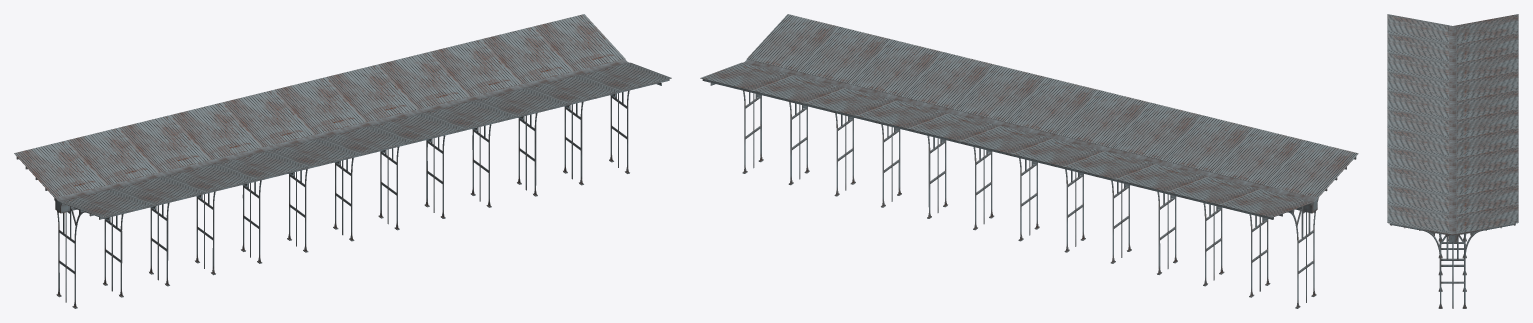
File: Carport_02.fbx
The picture shows the model from 3 angles, left to right: view 1: azimuth 30°, elevation 25°; view 2: azimuth 150°, elevation 25°; view 3: azimuth 270°, elevation 25°; orthographic projection. The views are drawn at different scales.
Visible parts, largest first — view 1: maitoaA; view 2: maitoaA; view 3: maitoaA.
Boxes of the visible parts, x1=… form: maitoaA: x1=14, y1=14, x2=671, y2=308; maitoaA: x1=700, y1=14, x2=1358, y2=308; maitoaA: x1=1387, y1=14, x2=1518, y2=308.
Bounding box in the file's own units: 3272 × 655 × 868.
